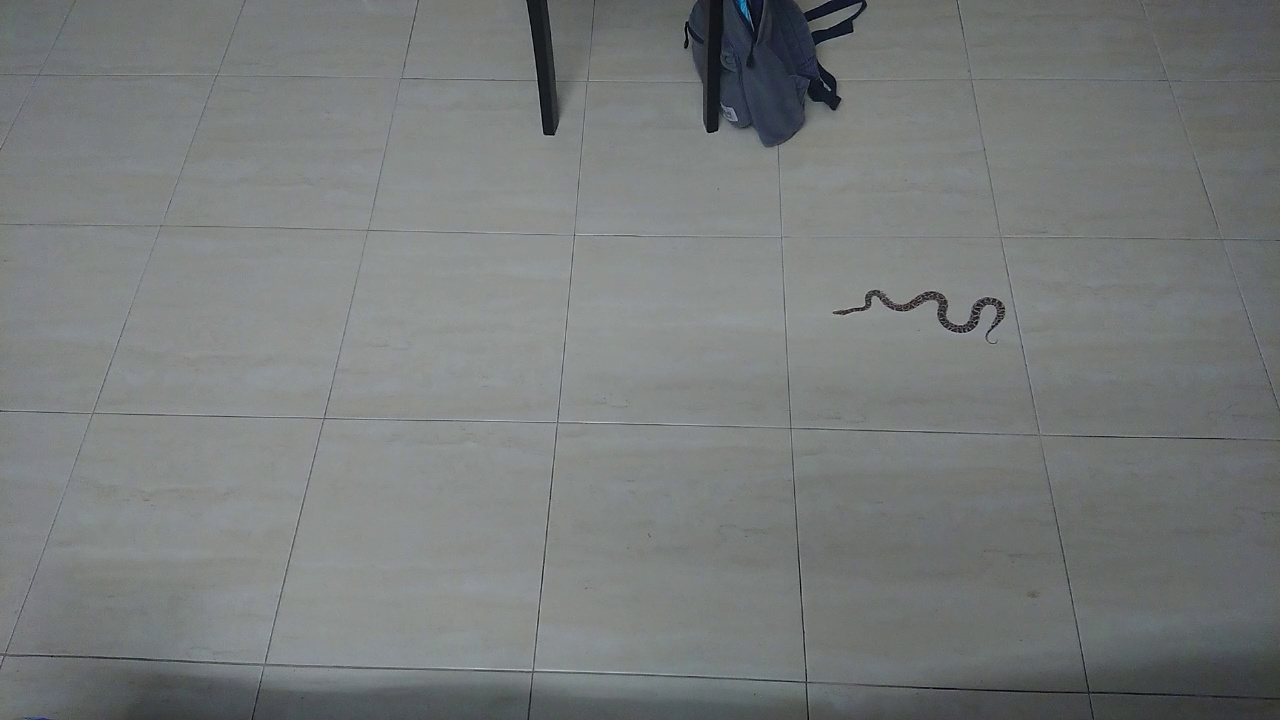snake: (818, 275, 1021, 353)
